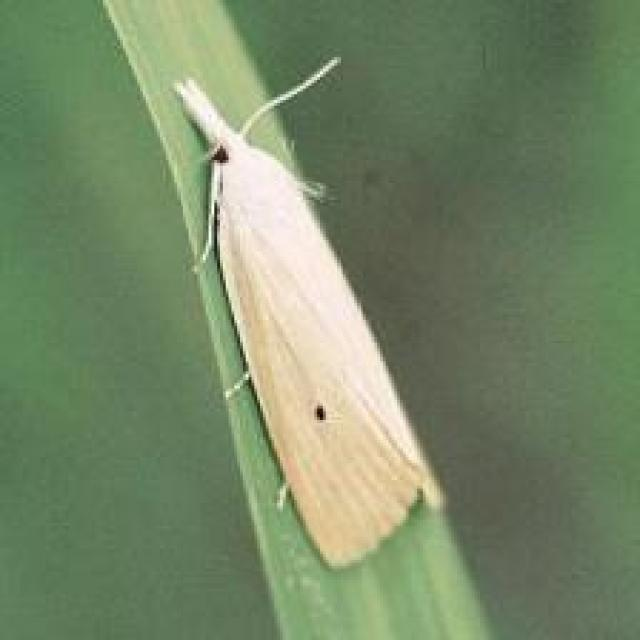yellow-stem-borer: (139, 59, 481, 581)
